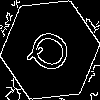Q: (25, 25, 80, 81)
